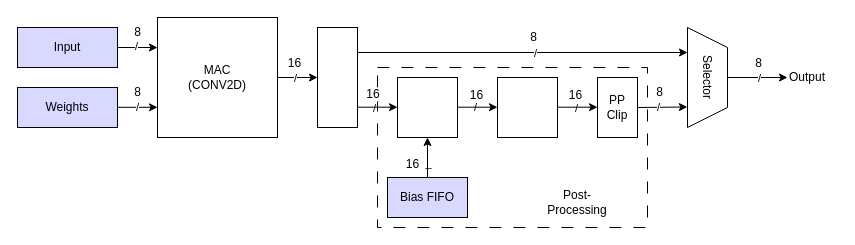
This 855x245 diagram has some shape labels left out. Each missing label, with the box of its shape:
Bias: (396, 76, 458, 138)
MAC Clip: (316, 26, 358, 128)
ReLU: (496, 76, 558, 138)
